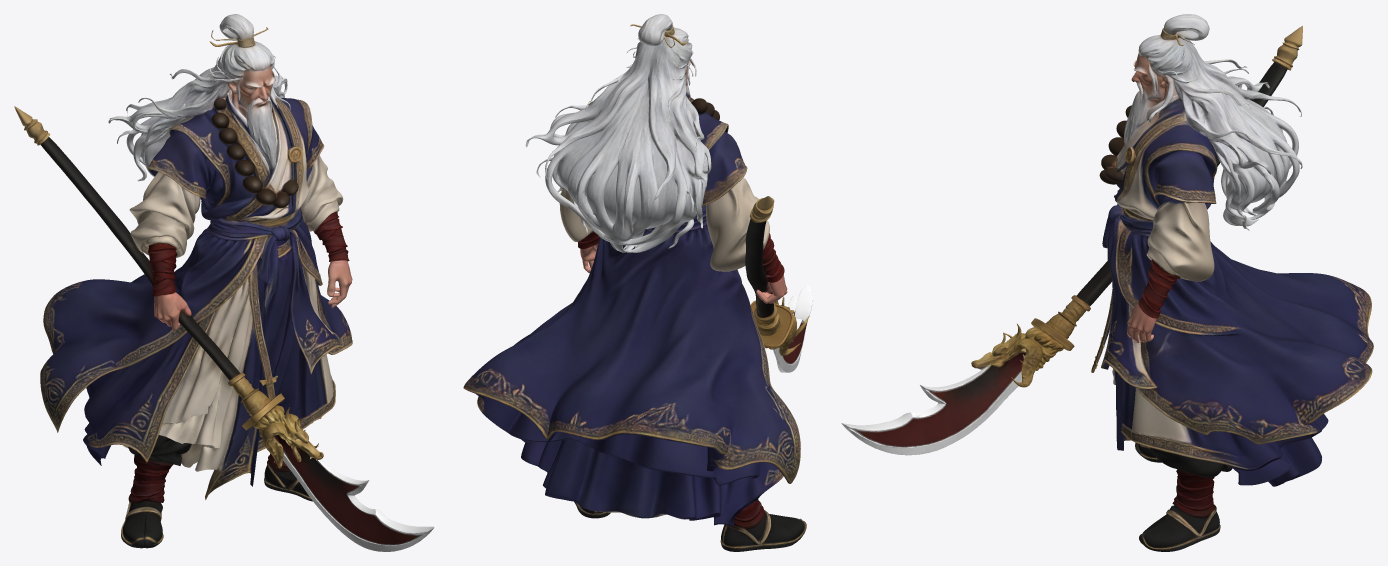
File: Grandmaster-Shen-Phase-1-PBR.glb
3 renders of one model, left to right at view 1: azimuth 30°, elevation 25°; view 2: azimuth 150°, elevation 25°; view 3: azimuth 270°, elevation 25°, orthographic. The views are drawn at different scales.
Parts seen in each view (by area): view 1: model; view 2: model; view 3: model.
Boxes of the visible parts, left/top/right/bottom form: model: left=14, top=14, right=434, bottom=551; model: left=463, top=14, right=812, bottom=551; model: left=841, top=14, right=1373, bottom=551.
Bounding box in the file's own units: 1.19 × 1.9 × 1.86.
1 material, 1 textured.
